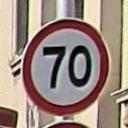speed_limit_70: (20, 16, 111, 118)
